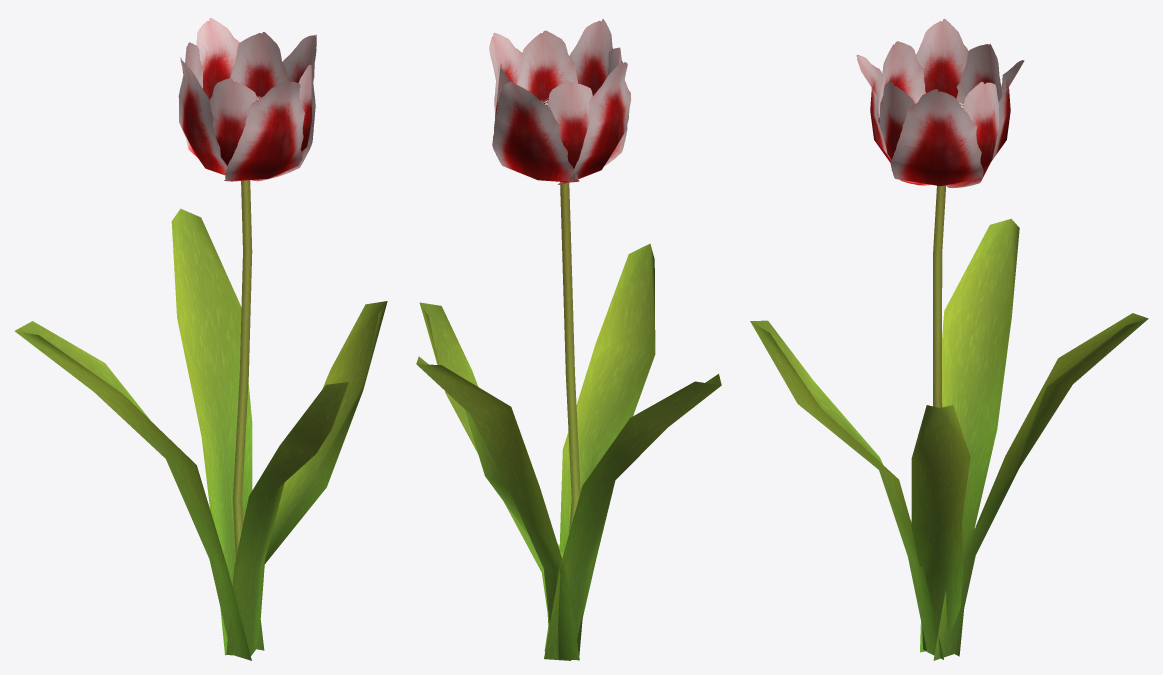
File: m_flower30.fbx
3 renders of one model, left to right at view 1: azimuth 30°, elevation 25°; view 2: azimuth 150°, elevation 25°; view 3: azimuth 270°, elevation 25°, orthographic.
Parts seen in each view (by area): view 1: mesh_flower30; view 2: mesh_flower30; view 3: mesh_flower30.
Boxes of the visible parts, left/top/right/bottom form: mesh_flower30: left=14, top=18, right=387, bottom=660; mesh_flower30: left=416, top=19, right=721, bottom=660; mesh_flower30: left=750, top=19, right=1148, bottom=660.
Bounding box in the file's own units: 0.2418 × 0.4208 × 0.2491.
Materials: 1 (1 with a texture image).
